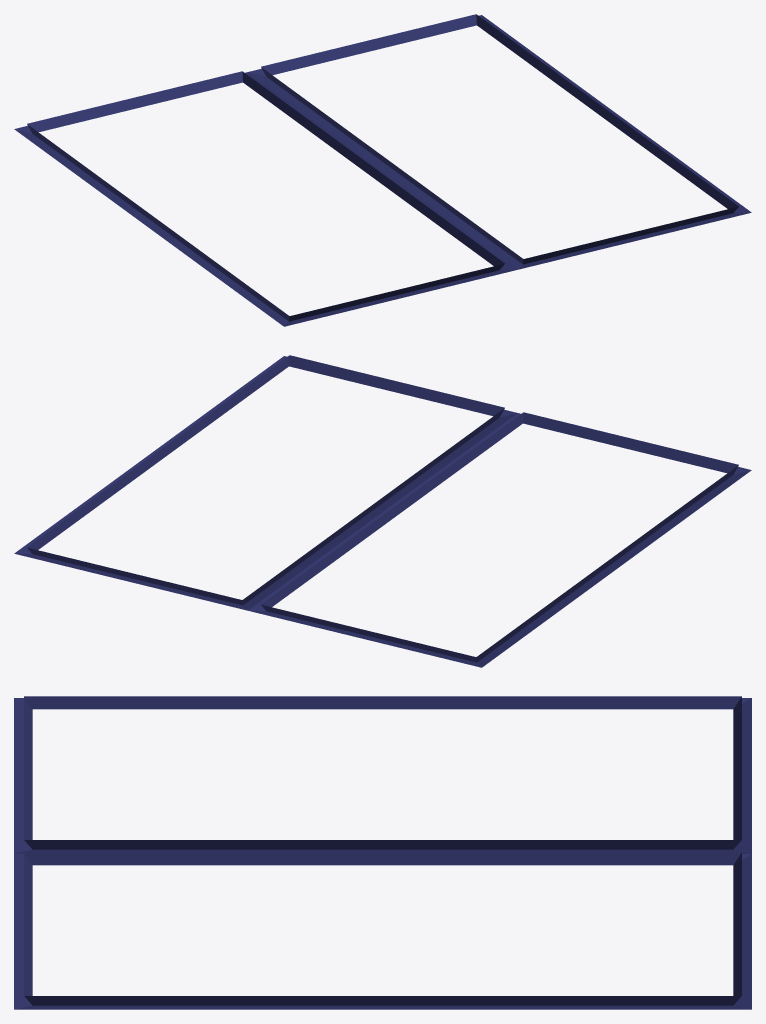
The model's file is drop_ceiling_frame.glb.
3 views of the same model, one above another, from view 1: azimuth 30°, elevation 25°; view 2: azimuth 150°, elevation 25°; view 3: azimuth 270°, elevation 25° (orthographic). The views are drawn at different scales.
Visible parts, largest first — view 1: DropCeiling_Frame; view 2: DropCeiling_Frame; view 3: DropCeiling_Frame.
Boxes of the visible parts, bbox=[...] form: DropCeiling_Frame: bbox=[14, 14, 751, 326]; DropCeiling_Frame: bbox=[14, 355, 751, 667]; DropCeiling_Frame: bbox=[14, 696, 751, 1009].
Bounding box in the file's own units: 2 × 0.0342 × 2.
Materials: 1 (1 with a texture image).
